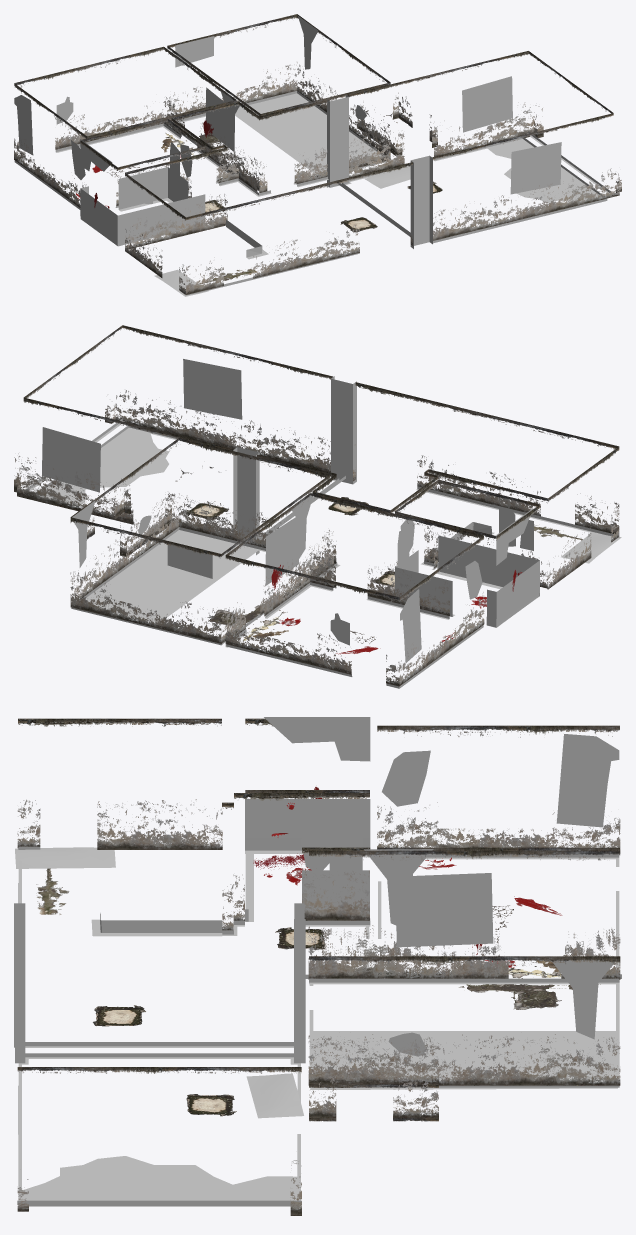
File: A1_H1_Decals.FBX
The picture shows the model from 3 angles, top to bottom: view 1: azimuth 30°, elevation 25°; view 2: azimuth 150°, elevation 25°; view 3: azimuth 270°, elevation 25°; orthographic projection. The views are drawn at different scales.
Parts seen in each view (by area): view 1: A1_H1_Decals; view 2: A1_H1_Decals; view 3: A1_H1_Decals.
Part boxes in pixels (<box>): A1_H1_Decals: <box>14,14,621,296</box>; A1_H1_Decals: <box>14,325,621,688</box>; A1_H1_Decals: <box>14,717,621,1215</box>.
Size of the model in its own units: 1874 by 354 by 1336.
